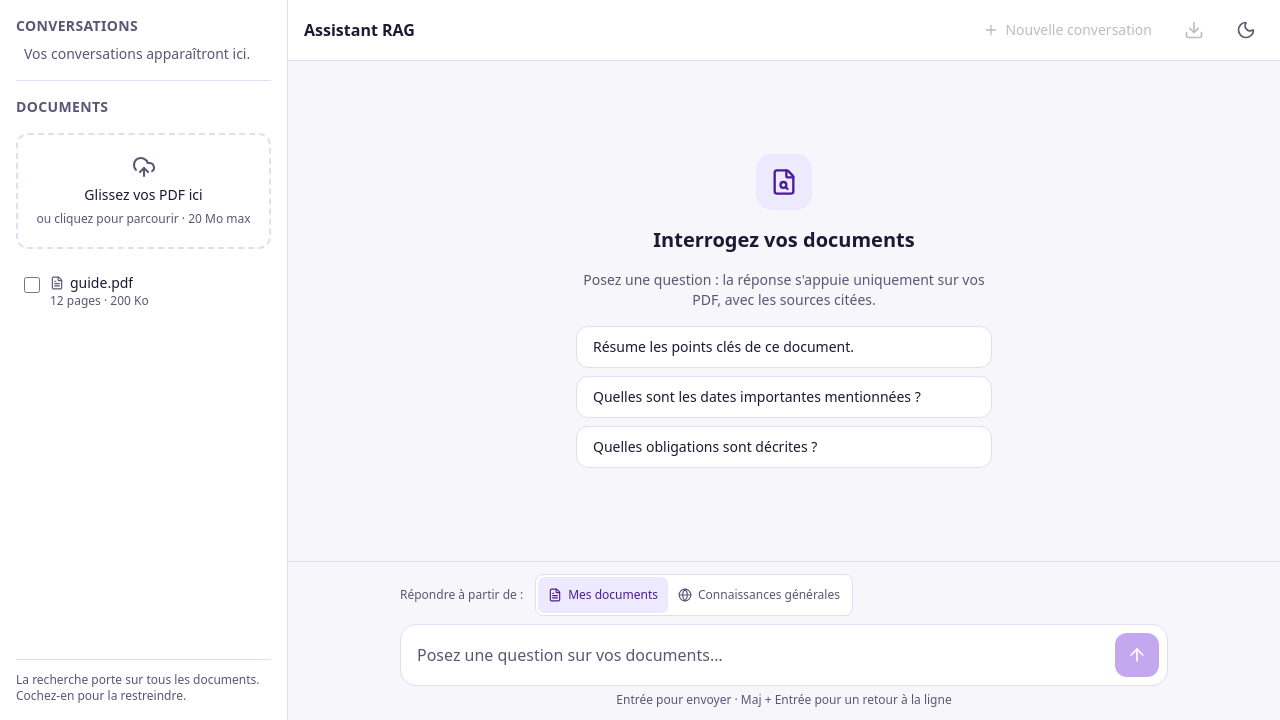
Test case: App › does not flag cited answers or answers given in documents mode
This screenshot has width=1280, height=720.
Expected: the text "guide.pdf" is shown, x1=70 y1=273 x2=133 y2=293
Expected: the radio button labelled "Mes documents" is checked, x1=538 y1=577 x2=668 y2=613
In the text box named "Votre question": (758, 655) x1=409 y1=633 x2=1107 y2=677, type "Combien de congés ?"
Then press Enter
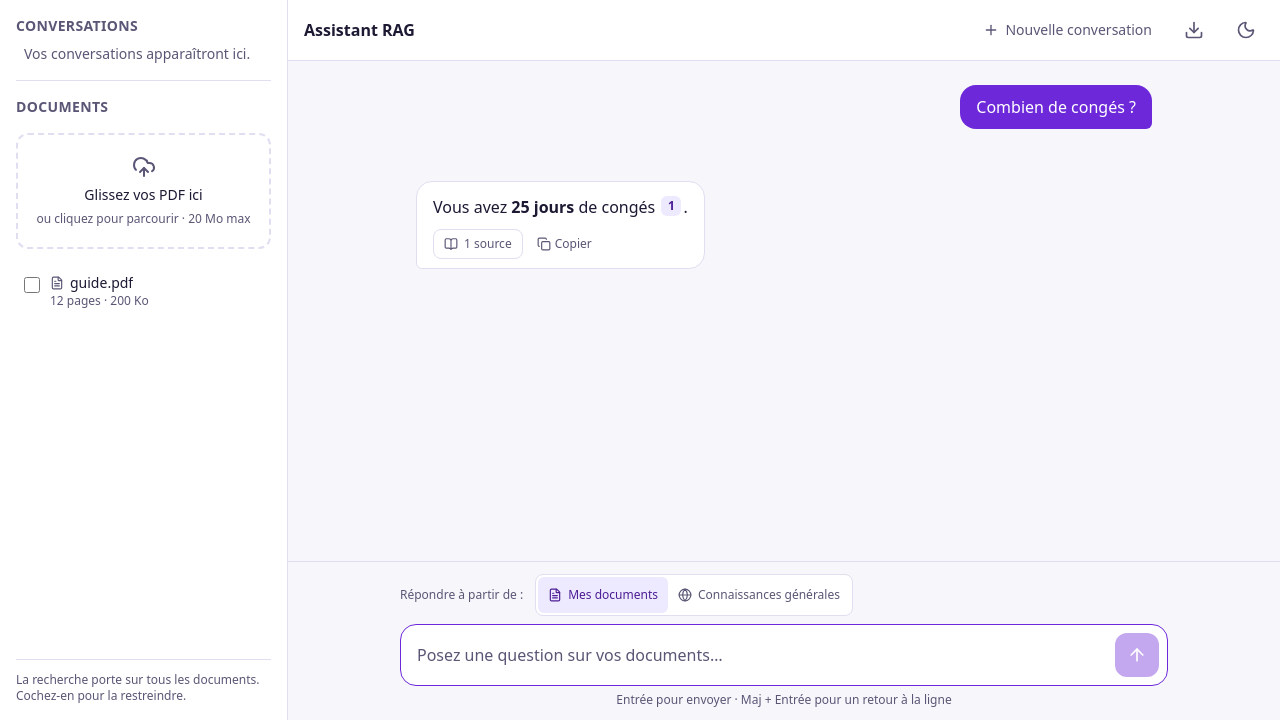
Expected: the button named "Voir la source 1" is shown, x1=661 y1=196 x2=681 y2=216
